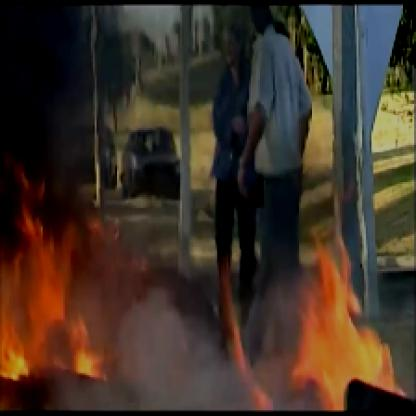Fire: (2, 173, 407, 414)
